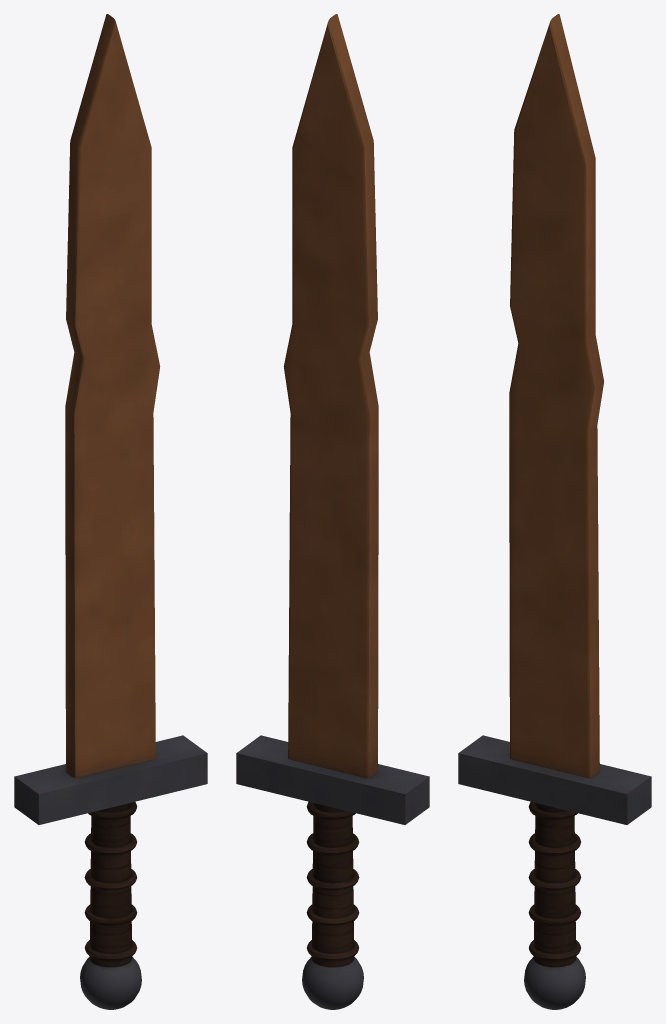
Rendered from blade_rusty.glb.
3 views of the same model, side by side, from view 1: azimuth 30°, elevation 25°; view 2: azimuth 150°, elevation 25°; view 3: azimuth 330°, elevation 25° (orthographic).
Parts seen in each view (by area): view 1: Blade_rusty; view 2: Blade_rusty; view 3: Blade_rusty.
Boxes of the visible parts, left/top/right/bottom form: Blade_rusty: left=14, top=14, right=207, bottom=1009; Blade_rusty: left=236, top=14, right=429, bottom=1009; Blade_rusty: left=458, top=14, right=651, bottom=1009.
Bounding box in the file's own units: 0.2 × 1.12 × 0.064.
Materials: 1 (1 with a texture image).
